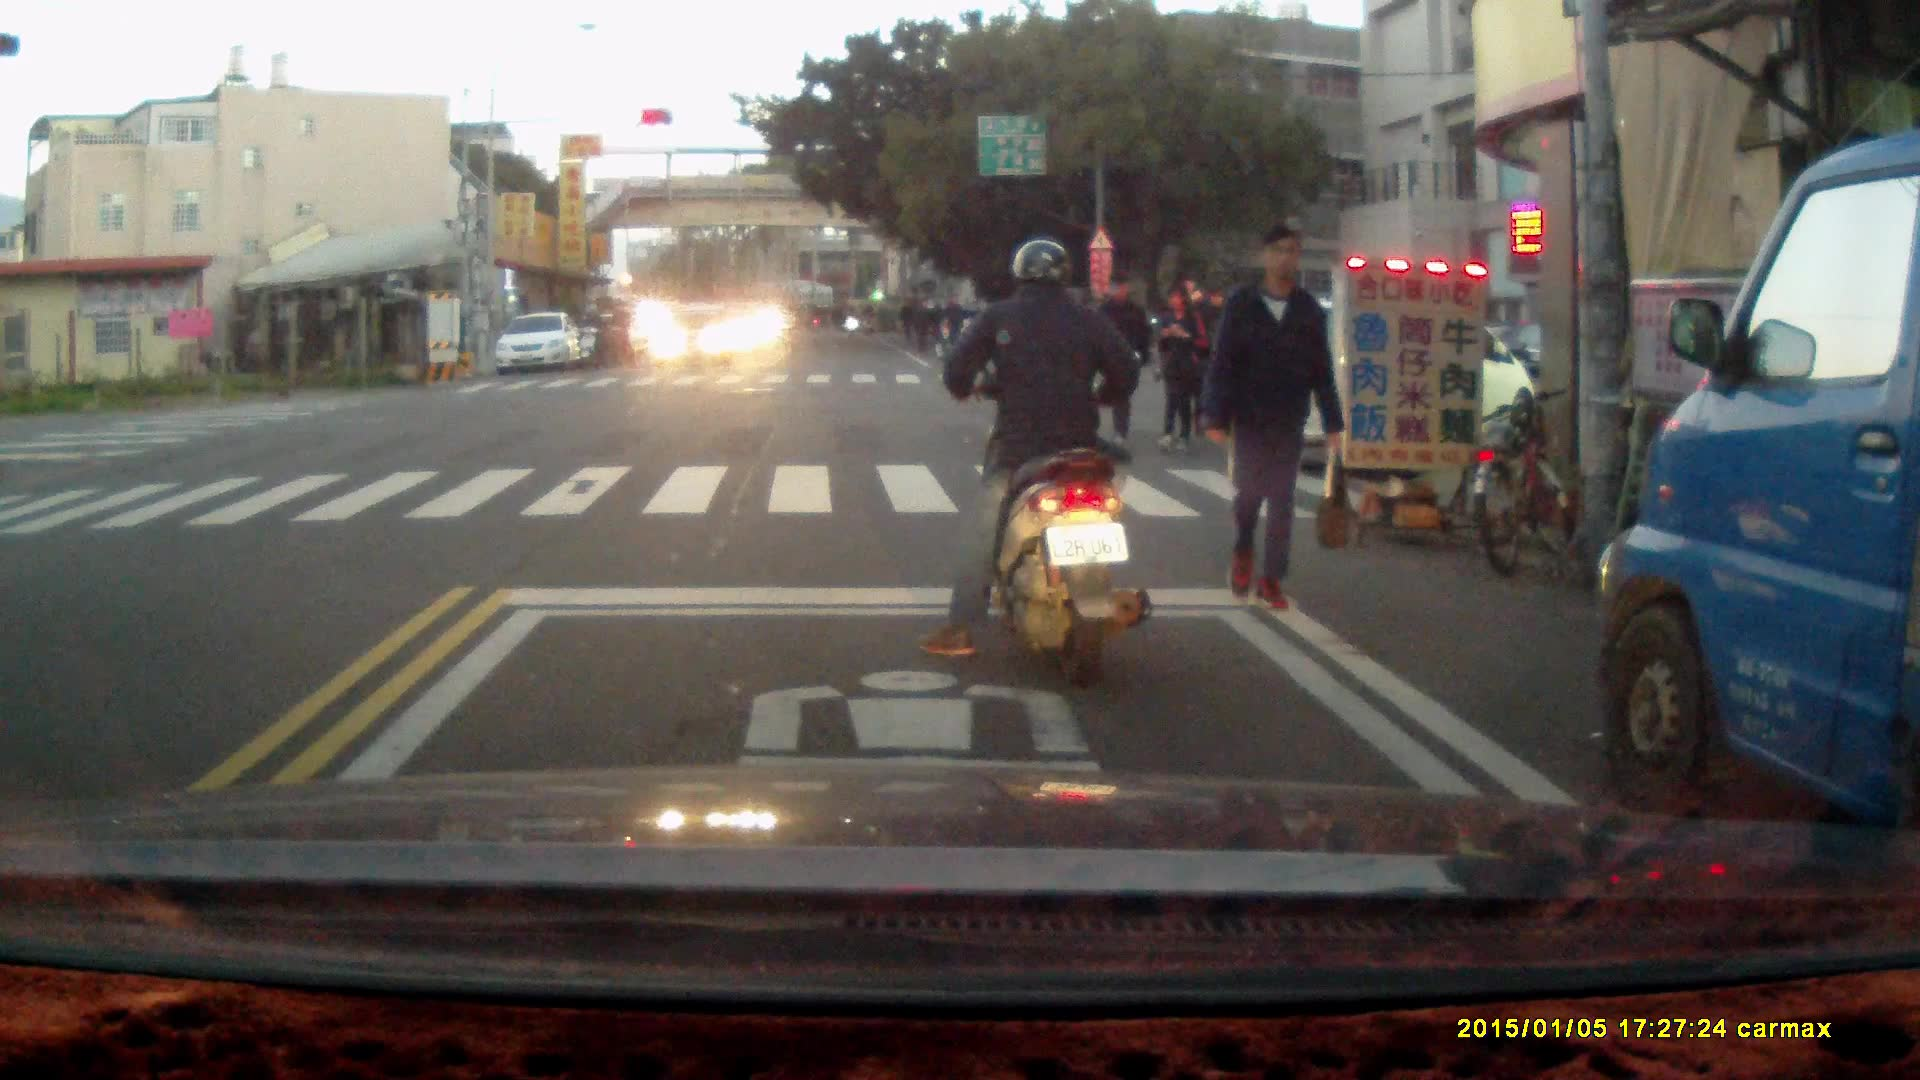pedestrian: (1196, 217, 1346, 615), (1082, 268, 1153, 455), (1155, 281, 1200, 455), (1172, 274, 1212, 450)
rider: (919, 238, 1148, 682), (599, 294, 635, 368), (577, 301, 612, 372)
vehicle: (1596, 120, 1920, 901), (645, 301, 744, 376), (493, 311, 584, 378)
